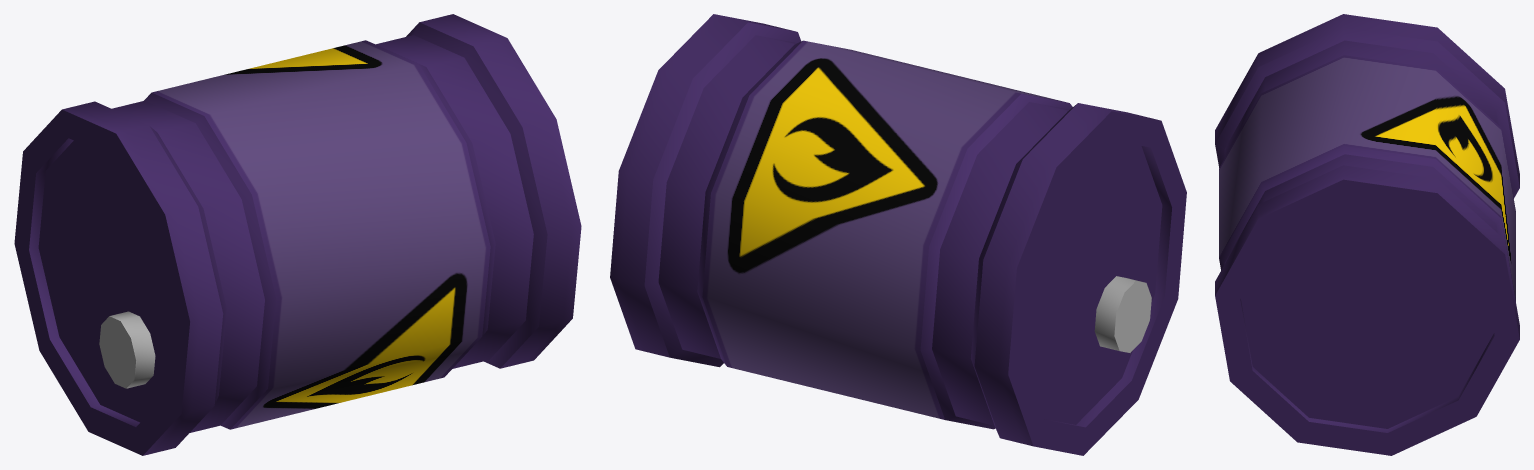
Rendered from SM_Obstacle_06.fbx.
3 renders of one model, left to right at view 1: azimuth 30°, elevation 25°; view 2: azimuth 150°, elevation 25°; view 3: azimuth 270°, elevation 25°, orthographic. The views are drawn at different scales.
Parts seen in each view (by area): view 1: Cylinder003; view 2: Cylinder003; view 3: Cylinder003.
Part boxes in pixels (x1,y1,x2,y2): Cylinder003: (14, 14, 581, 455); Cylinder003: (610, 14, 1186, 455); Cylinder003: (1215, 14, 1519, 455).
Bounding box in the file's own units: 2.72 × 2.07 × 2.07.
